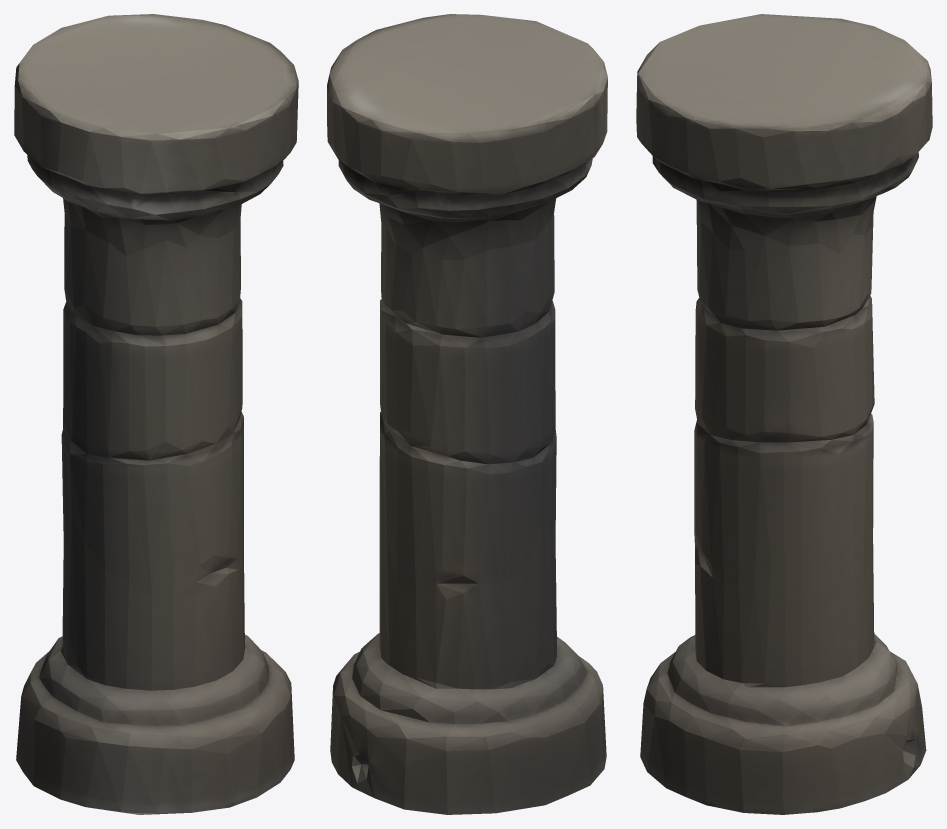
3 renders of one model, left to right at view 1: azimuth 30°, elevation 25°; view 2: azimuth 150°, elevation 25°; view 3: azimuth 270°, elevation 25°, orthographic.
Parts seen in each view (by area): view 1: geometry_0.062_Baked; view 2: geometry_0.062_Baked; view 3: geometry_0.062_Baked.
Part boxes in pixels (x1,y1,x2,y2): geometry_0.062_Baked: [14, 14, 298, 814]; geometry_0.062_Baked: [327, 14, 607, 814]; geometry_0.062_Baked: [636, 14, 932, 814].
Size of the model in its own units: 11.11 by 29.63 by 11.61.
